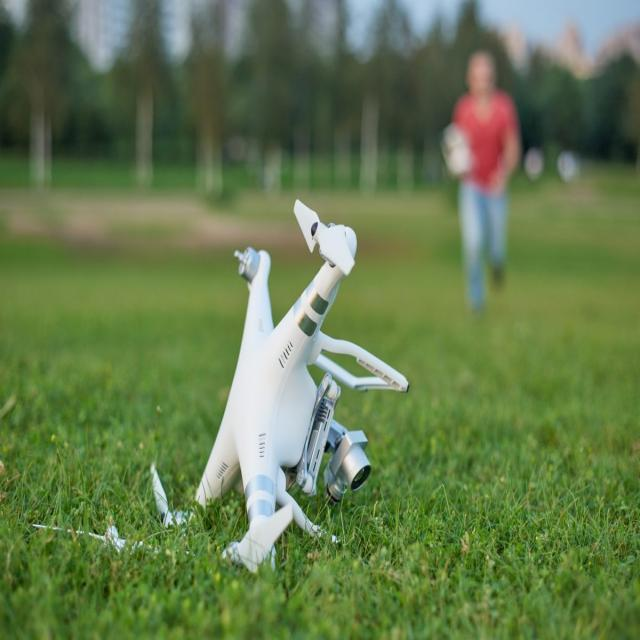drones: (126, 177, 397, 577)
